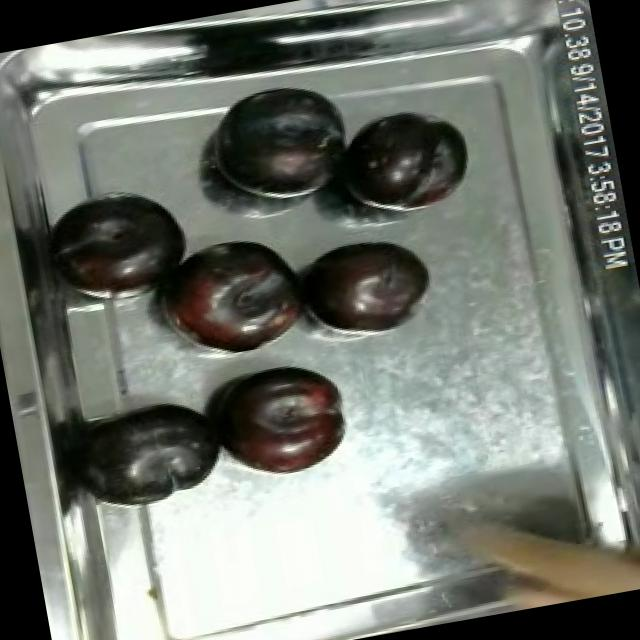Fruit: (142, 223, 318, 374), (198, 70, 362, 212), (200, 349, 360, 490), (70, 387, 234, 519), (44, 174, 201, 310), (325, 96, 483, 222), (290, 225, 441, 342)
